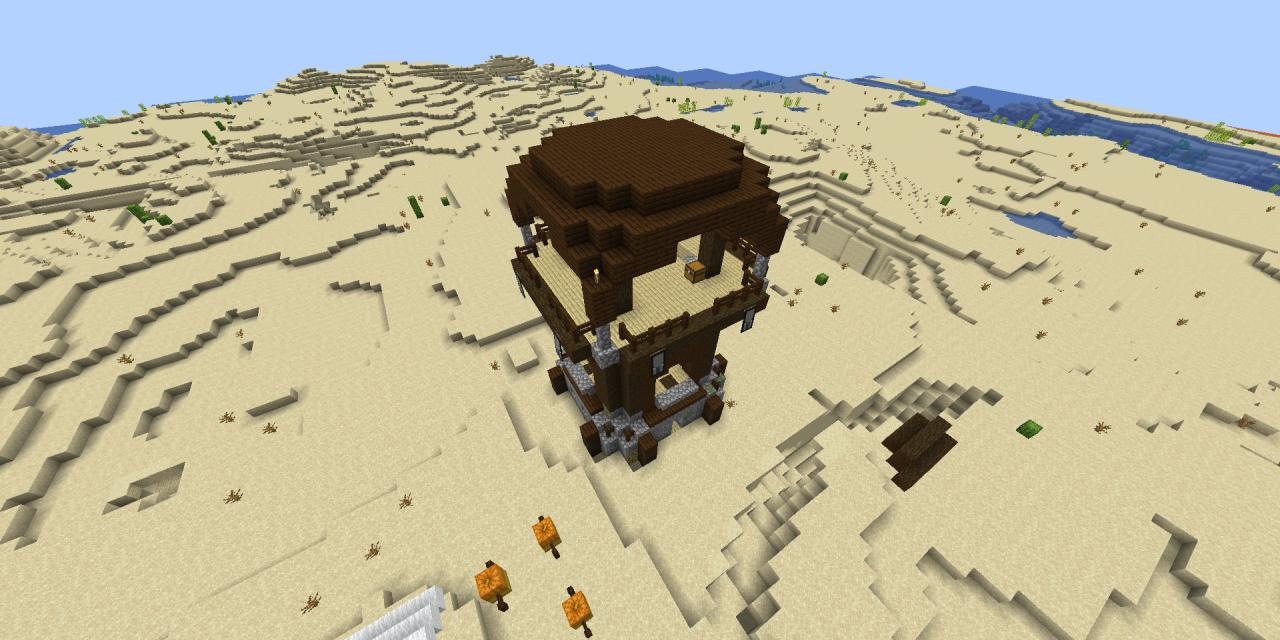pillager outpost: (498, 105, 804, 476)
